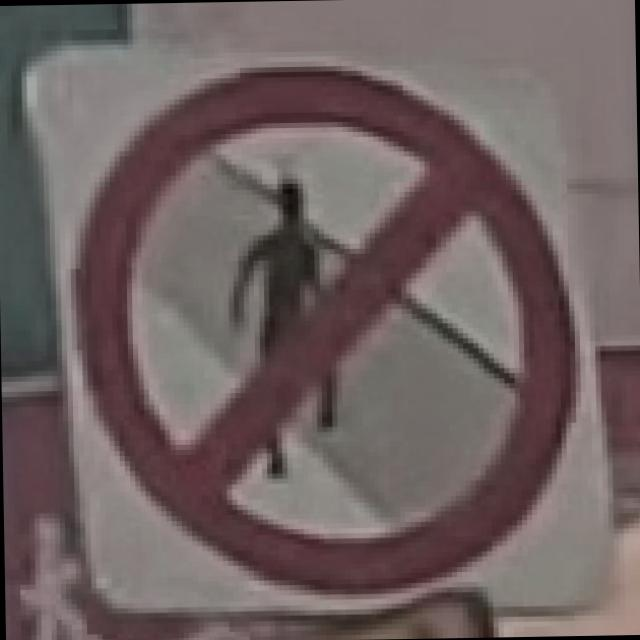nojaywalking_sign: (21, 26, 614, 624)
